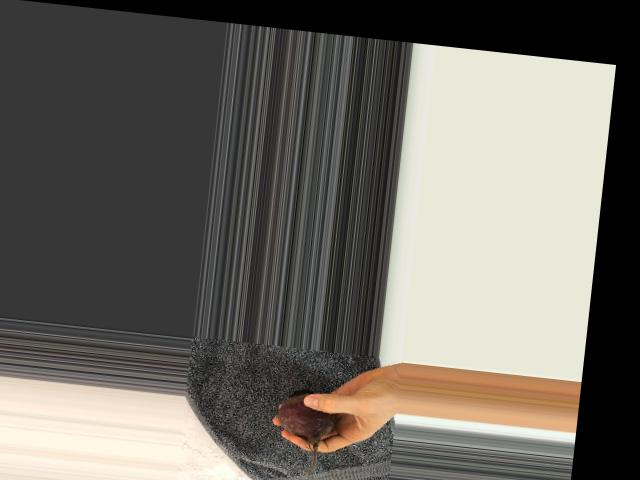beet: (271, 386, 338, 479)
